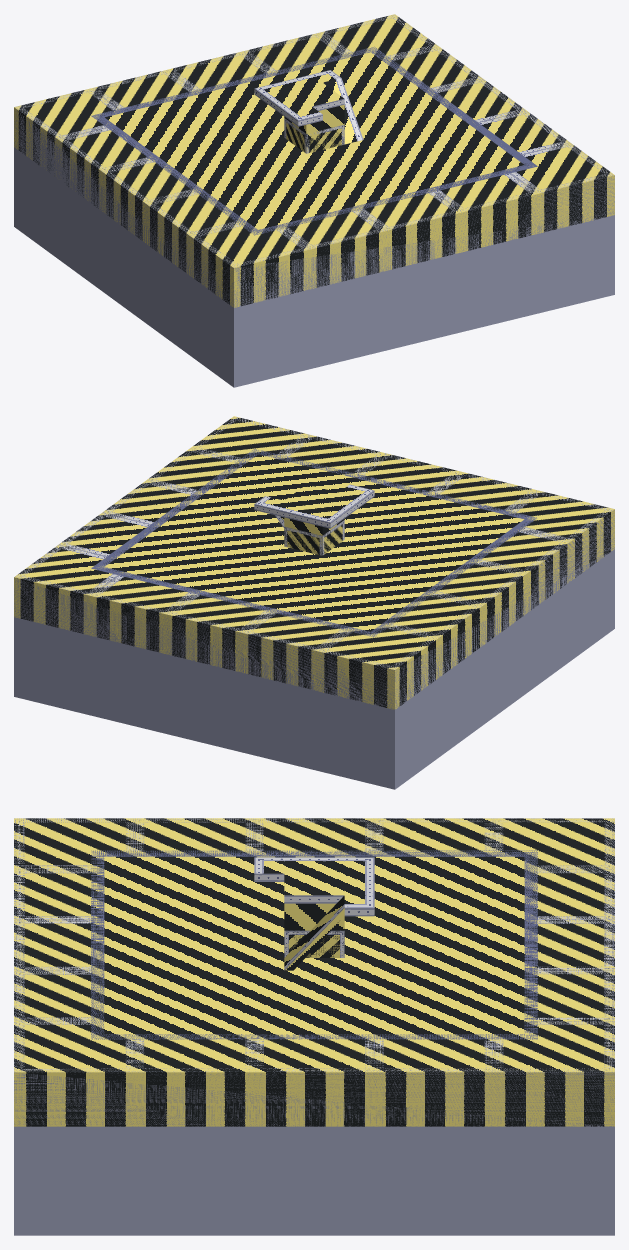
File: testing_zone.glb
3 views of the same model, one above another, from view 1: azimuth 30°, elevation 25°; view 2: azimuth 150°, elevation 25°; view 3: azimuth 270°, elevation 25° (orthographic). The views are drawn at different scales.
Parts seen in each view (by area): view 1: Pool, Ground, TowerPiece, Crate2x2; view 2: Pool, Ground, TowerPiece, Crate2x2; view 3: Ground, Pool, TowerPiece, Crate2x2.
Boxes of the visible parts, left/top/right/bottom form: Pool: left=14, top=14, right=614, bottom=387; Ground: left=14, top=14, right=614, bottom=307; TowerPiece: left=254, top=70, right=363, bottom=153; Crate2x2: left=284, top=118, right=344, bottom=153; Pool: left=14, top=417, right=614, bottom=789; Ground: left=14, top=416, right=614, bottom=709; TowerPiece: left=254, top=484, right=374, bottom=555; Crate2x2: left=284, top=520, right=344, bottom=555; Ground: left=14, top=818, right=614, bottom=1126; Pool: left=14, top=818, right=614, bottom=1235; TowerPiece: left=254, top=857, right=374, bottom=970; Crate2x2: left=284, top=930, right=344, bottom=957.
Size of the model in its own units: 20 by 8.3 by 20.
Materials: 4 (4 with a texture image).
